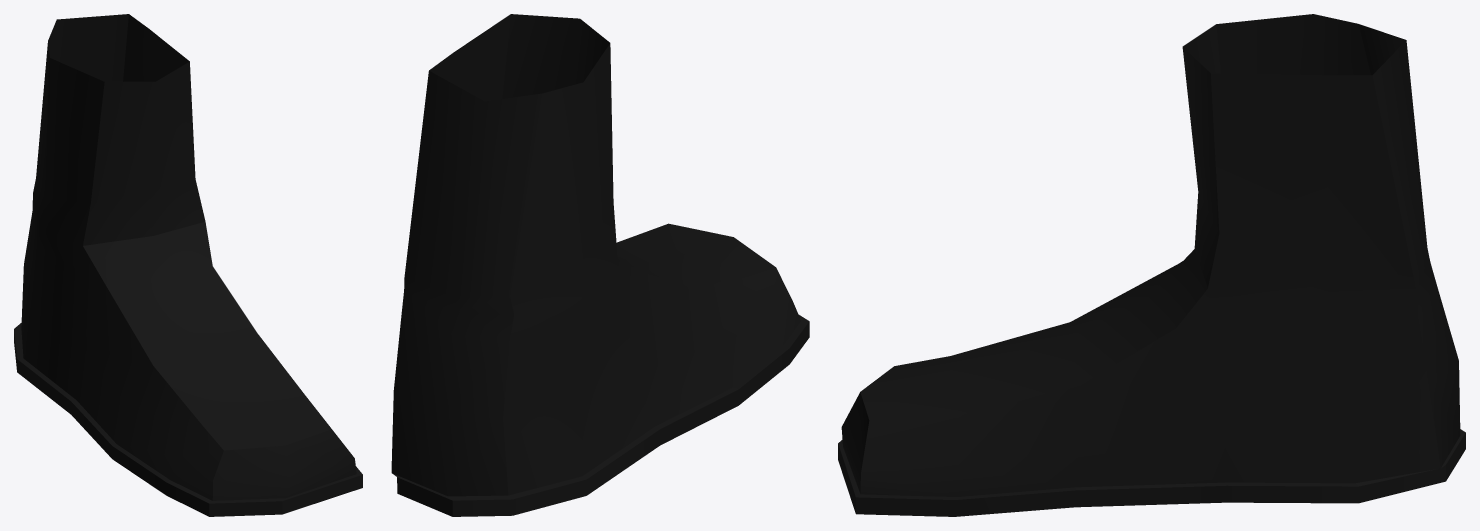
File: ninjaShoe_R.fbx
3 renders of one model, left to right at view 1: azimuth 30°, elevation 25°; view 2: azimuth 150°, elevation 25°; view 3: azimuth 270°, elevation 25°, orthographic. The views are drawn at different scales.
Parts seen in each view (by area): view 1: polySurface16; view 2: polySurface16; view 3: polySurface16.
Boxes of the visible parts, left/top/right/bottom form: polySurface16: left=14, top=14, right=362, bottom=516; polySurface16: left=391, top=14, right=809, bottom=516; polySurface16: left=838, top=14, right=1465, bottom=516.
Size of the model in its own units: 11.57 by 20.94 by 28.32.
Materials: 1 (1 with a texture image).
